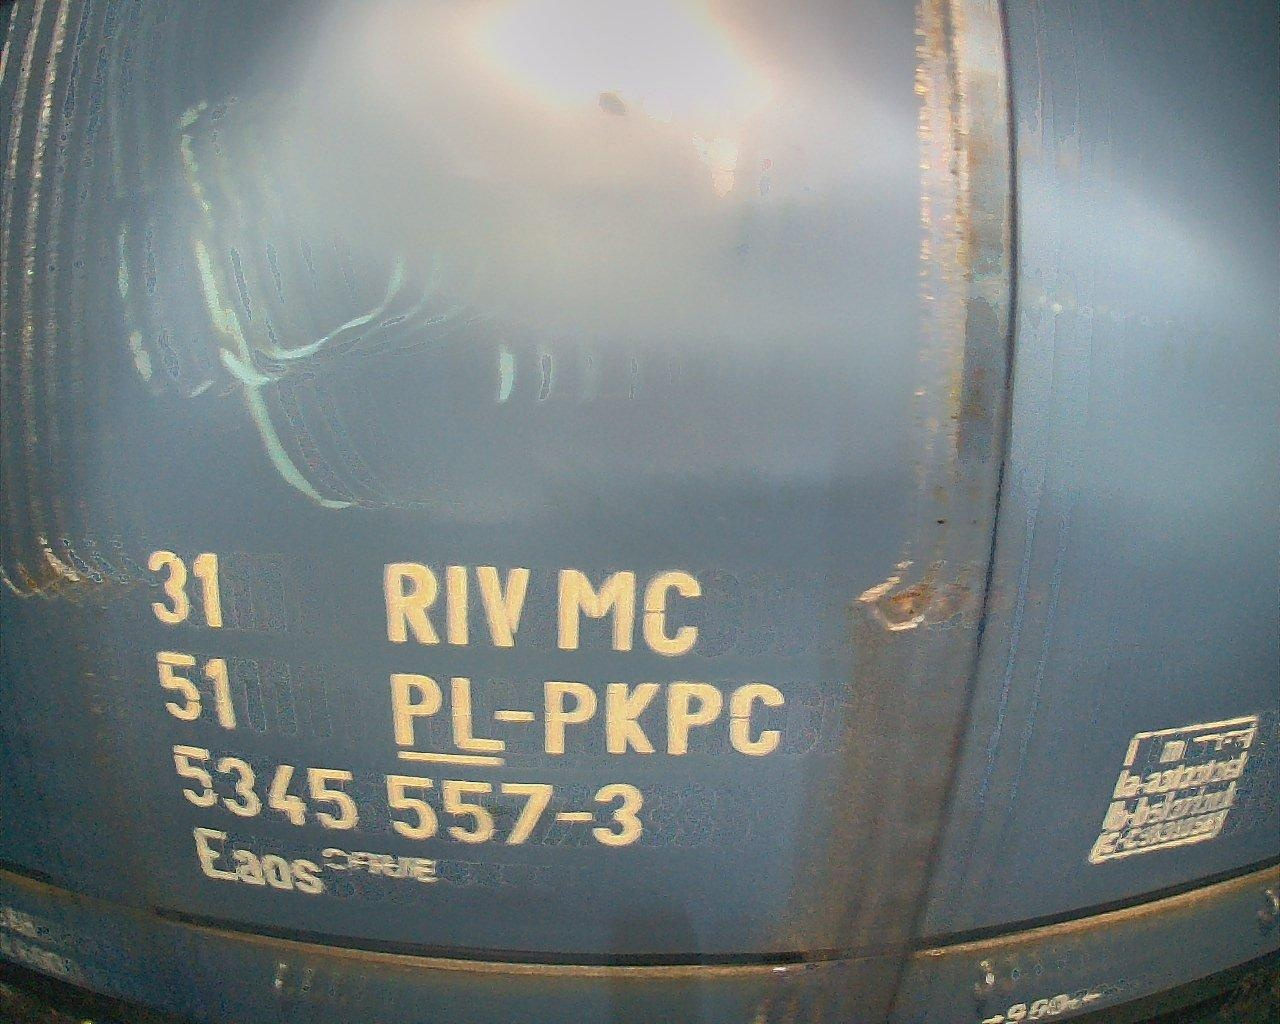UIC: (148, 546, 789, 899)
